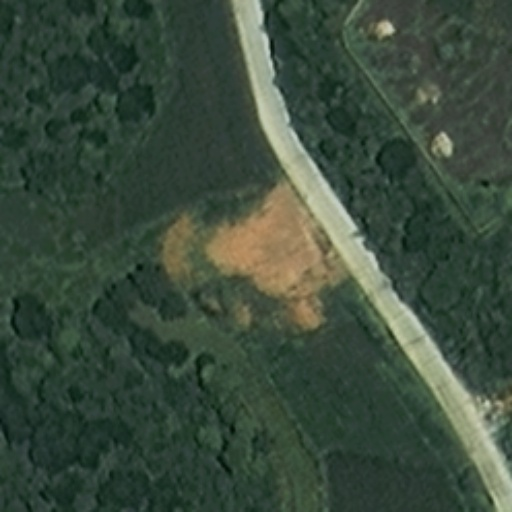landslide: (166, 177, 338, 329)
